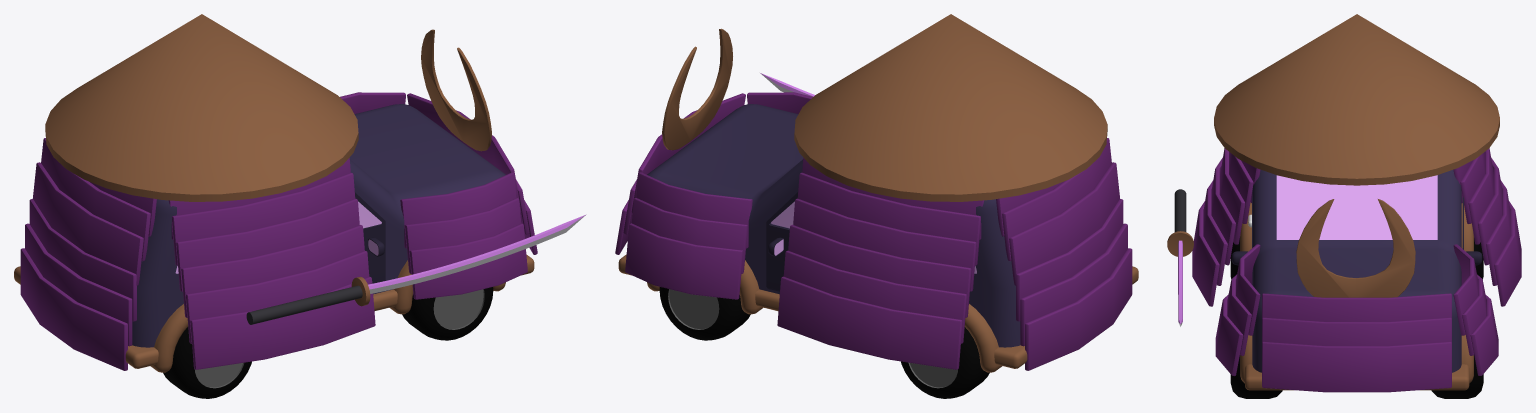
Rendered from SamCarNew.fbx.
3 views of the same model, side by side, from view 1: azimuth 30°, elevation 25°; view 2: azimuth 150°, elevation 25°; view 3: azimuth 270°, elevation 25° (orthographic). The views are drawn at different scales.
Visible parts, largest first — view 1: SamuraiCar, Katana, Cube.004, FrontRightWheel, BackRightWheel; view 2: SamuraiCar, Cube.004, FrontLeftWheel, BackLeftWheel; view 3: SamuraiCar, Cube.004, Katana, FrontRightWheel, FrontLeftWheel.
Part boxes in pixels (x1,y1,x2,y2): SamuraiCar: [20, 14, 537, 370]; Katana: [246, 214, 586, 324]; Cube.004: [14, 254, 534, 372]; FrontRightWheel: [402, 287, 493, 340]; BackRightWheel: [163, 327, 251, 398]; SamuraiCar: [615, 14, 1132, 370]; Cube.004: [618, 254, 1138, 372]; FrontLeftWheel: [659, 287, 750, 340]; BackLeftWheel: [901, 327, 989, 398]; SamuraiCar: [1192, 14, 1521, 392]; Cube.004: [1240, 202, 1473, 390]; Katana: [1167, 189, 1193, 326]; FrontRightWheel: [1230, 355, 1282, 398]; FrontLeftWheel: [1431, 355, 1483, 398].
Size of the model in its own units: 778 by 544 by 588.
